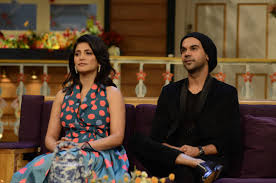Caution: (45, 32, 239, 183)
